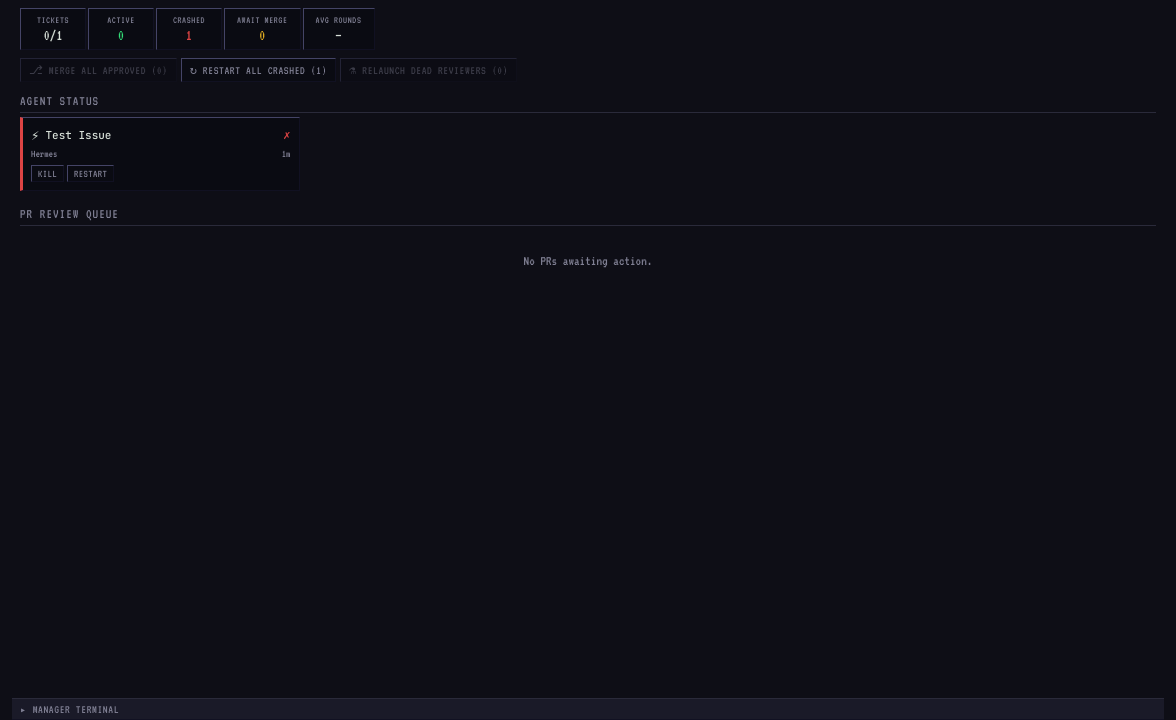
Scenario: ManagerView › Exception Handling › catches rejected promise in handleRestart and shows error
Click the button "RESTART" at (91, 173), box [67,165,114,182]
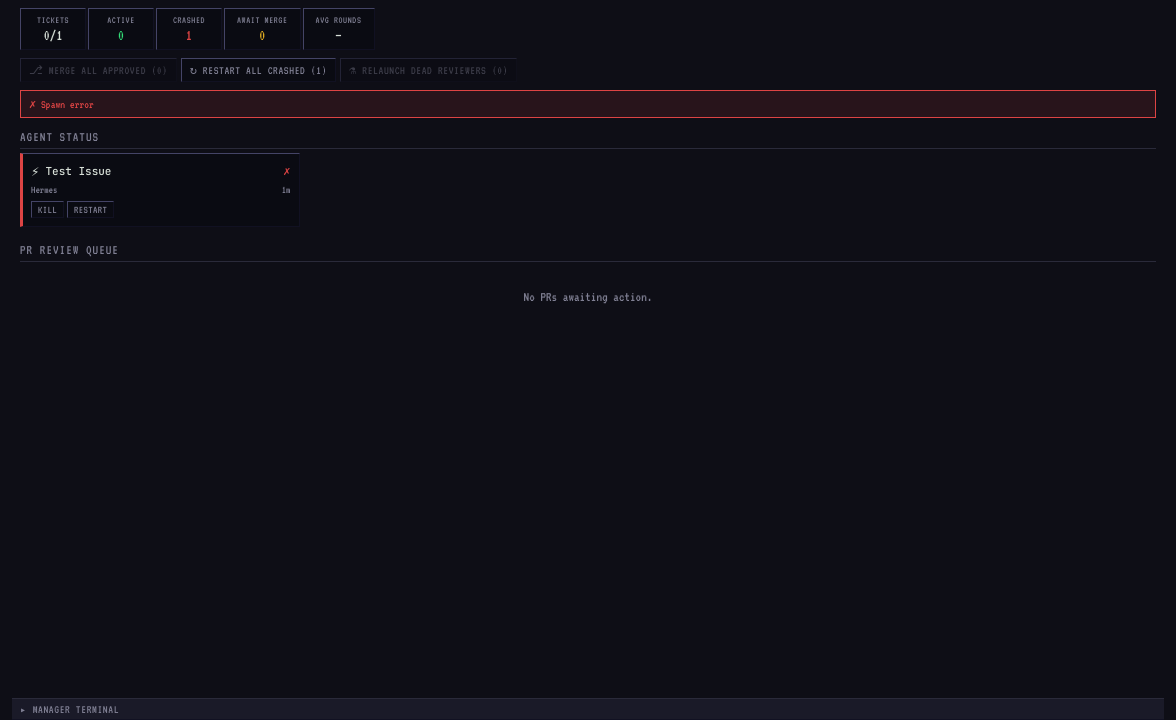
Expected: the text "✗ Spawn error" is shown, [20,90,1156,118]
